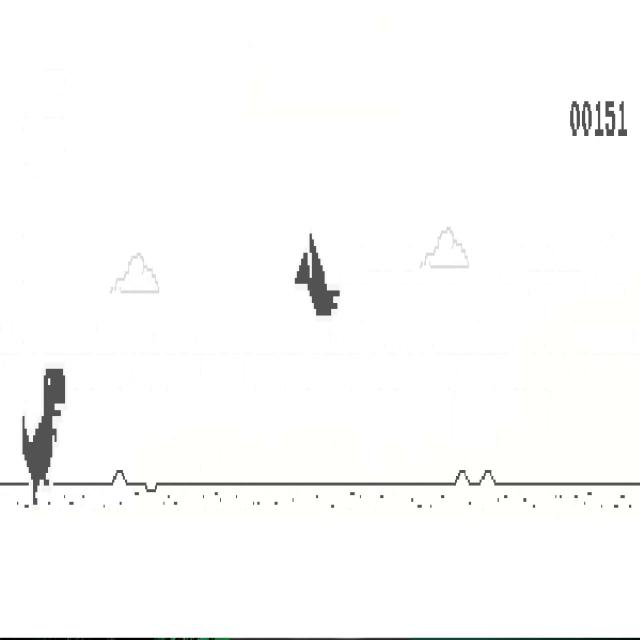dino: (21, 368, 66, 507)
ptero: (294, 231, 340, 317)
